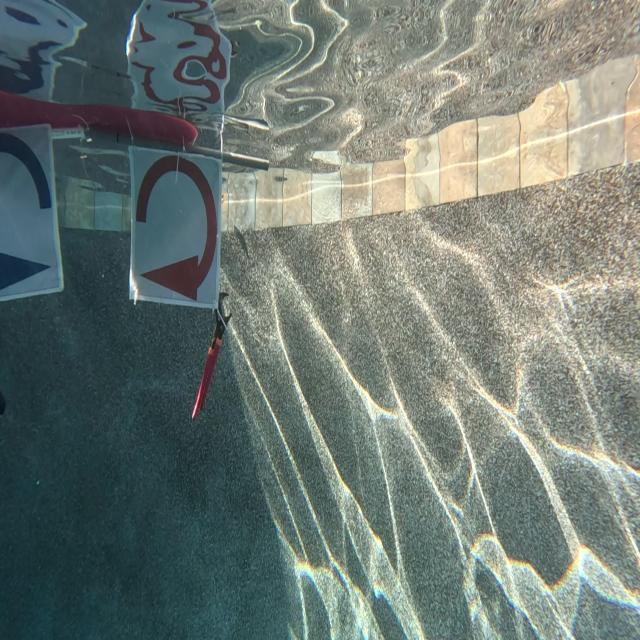blue_side: (0, 126, 62, 293)
red_side: (128, 144, 220, 312)
